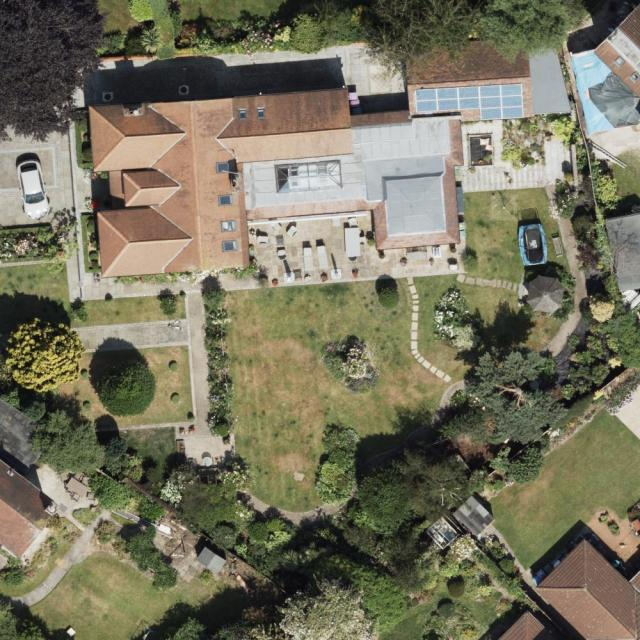roof: (88, 35, 574, 280), (536, 539, 640, 640), (0, 397, 59, 560), (594, 1, 640, 101), (497, 611, 561, 640)
skylight: (274, 159, 345, 197), (215, 160, 233, 176), (217, 192, 234, 207), (224, 239, 240, 253), (221, 219, 237, 233), (613, 52, 627, 68), (627, 69, 640, 85), (255, 105, 267, 119), (237, 109, 248, 124)
solar: (414, 84, 523, 121)
